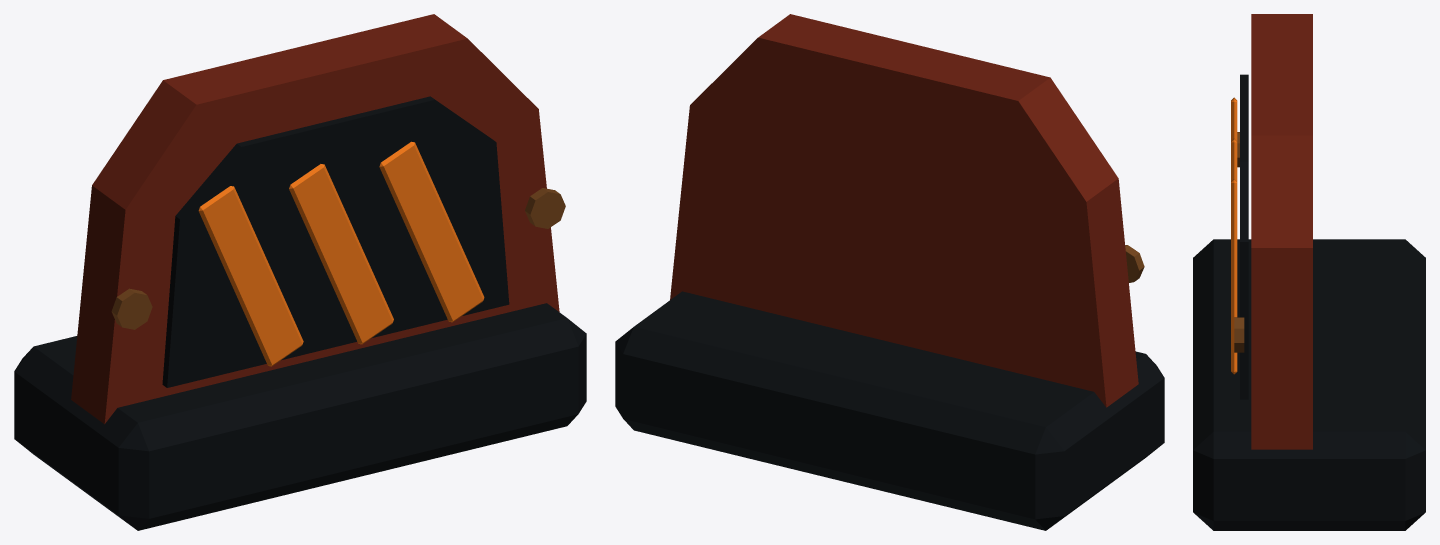
File: barricade.glb
3 views of the same model, side by side, from view 1: azimuth 30°, elevation 25°; view 2: azimuth 150°, elevation 25°; view 3: azimuth 270°, elevation 25° (orthographic). The views are drawn at different scales.
Visible parts, largest first — view 1: barricade; view 2: barricade; view 3: barricade.
Boxes of the visible parts, x1,y1,x2,y2 form: barricade: (14, 14, 586, 530); barricade: (615, 14, 1164, 530); barricade: (1193, 14, 1425, 530).
Size of the model in its own units: 1.45 by 1.16 by 0.68.
Materials: 1 (1 with a texture image).
